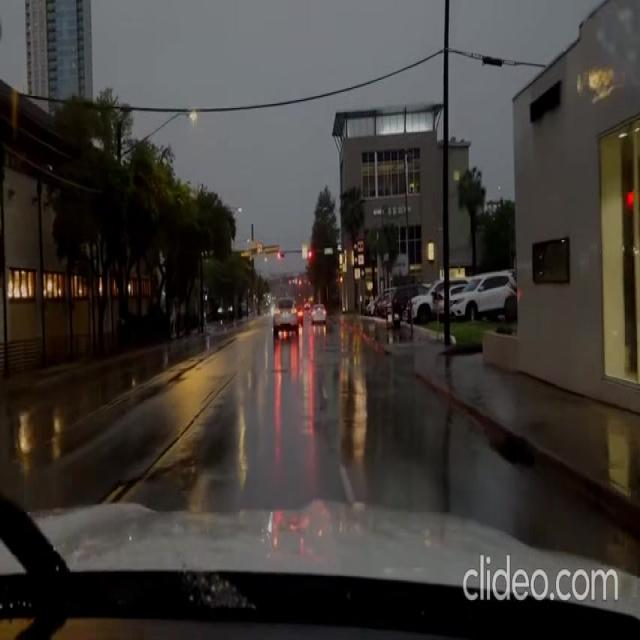Car: (445, 265, 518, 326), (406, 273, 467, 318), (272, 297, 299, 337), (310, 301, 326, 321)
